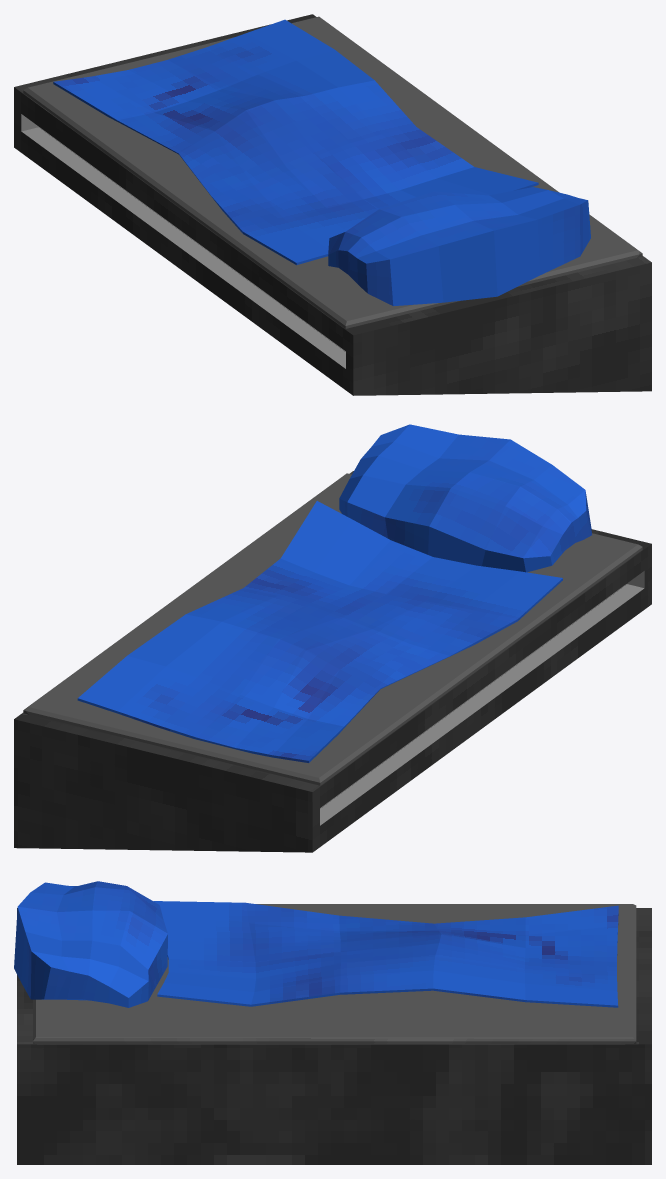
Rendered from F7BlackpoolBed.glb.
3 views of the same model, one above another, from view 1: azimuth 30°, elevation 25°; view 2: azimuth 150°, elevation 25°; view 3: azimuth 270°, elevation 25° (orthographic). The views are drawn at different scales.
Parts seen in each view (by area): view 1: Bed; view 2: Bed; view 3: Bed.
Part boxes in pixels (x1,y1,x2,y2): Bed: [14, 14, 651, 395]; Bed: [14, 424, 651, 852]; Bed: [14, 881, 651, 1164].
Size of the model in its own units: 1.1 by 0.7017 by 2.18.
1 material, 1 textured.
